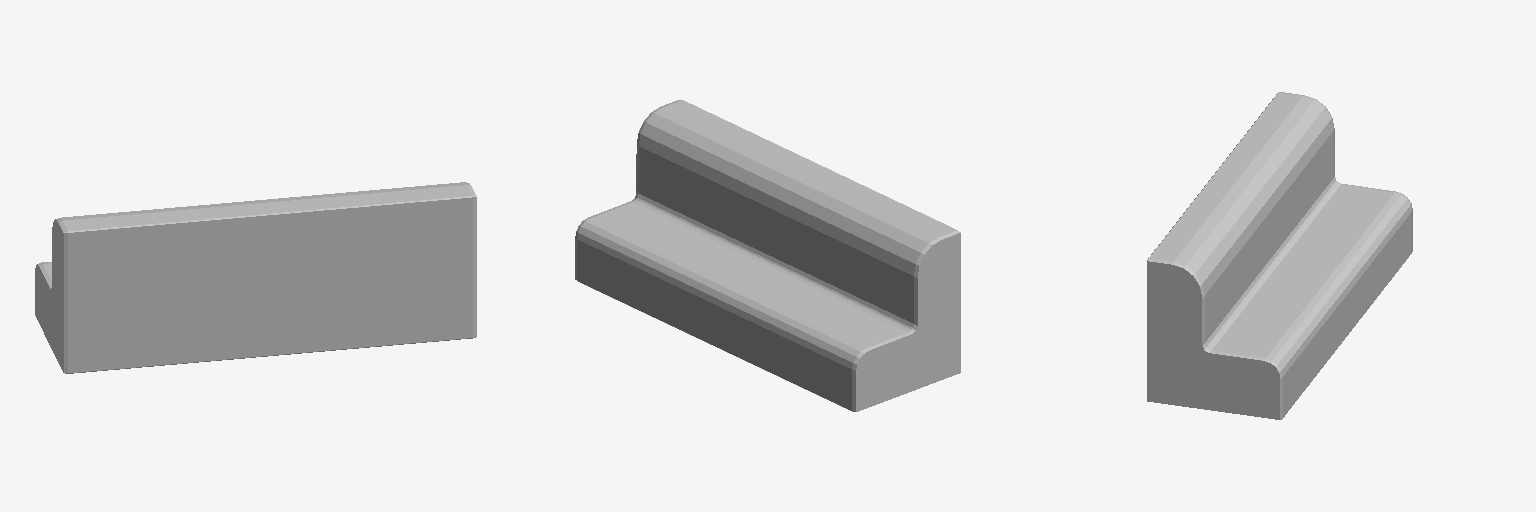
Rendered from seat_17.obj.
The picture shows the model from 3 angles: view 1: azimuth 30°, elevation 25°; view 2: azimuth 150°, elevation 25°; view 3: azimuth 270°, elevation 25°; orthographic projection.
Parts seen in each view (by area): view 1: Cadeira1.016_Cube.016; view 2: Cadeira1.016_Cube.016; view 3: Cadeira1.016_Cube.016.
Boxes of the visible parts, box(x1,y1,x2,y2) form: Cadeira1.016_Cube.016: box(35, 182, 476, 373); Cadeira1.016_Cube.016: box(575, 100, 960, 411); Cadeira1.016_Cube.016: box(1147, 92, 1412, 419).
Size of the model in its own units: 3.4 by 1.2 by 2.03.